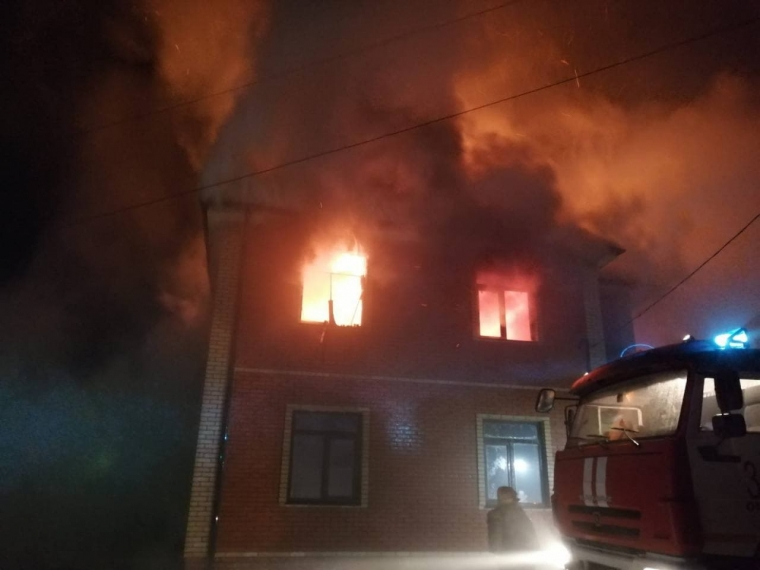fire: (176, 7, 729, 215), (294, 226, 369, 332), (477, 243, 546, 354)
